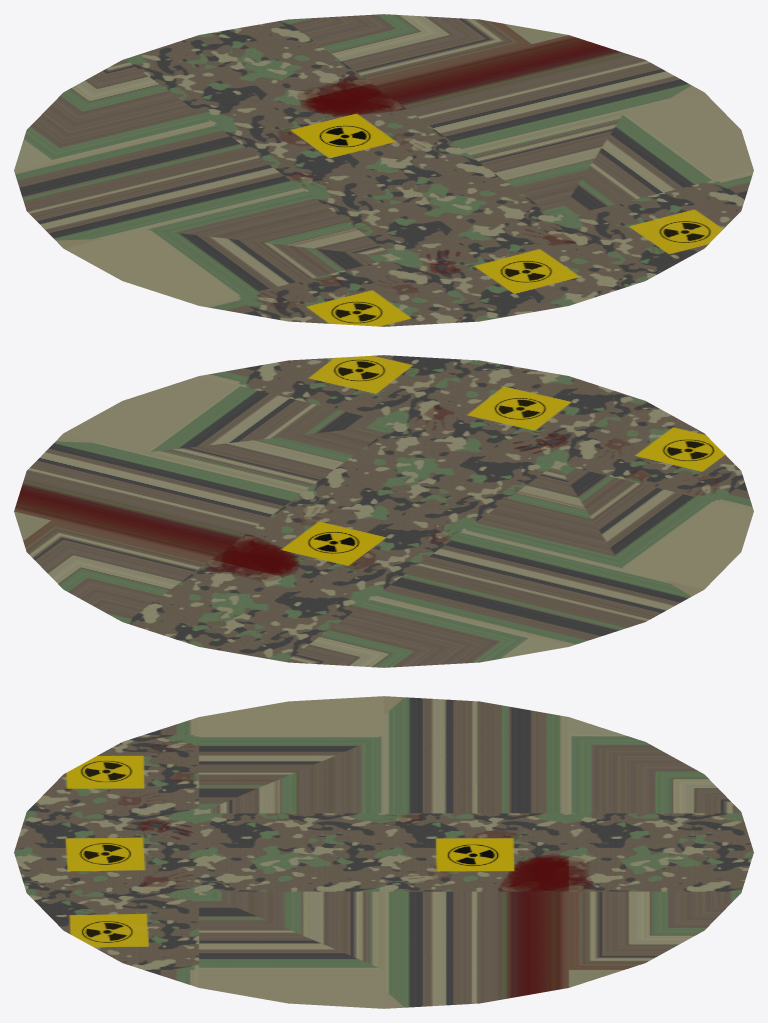
File: sand.gltf
3 renders of one model, top to bottom at view 1: azimuth 30°, elevation 25°; view 2: azimuth 150°, elevation 25°; view 3: azimuth 270°, elevation 25°, orthographic.
Visible parts, largest first — view 1: sand; view 2: sand; view 3: sand.
Boxes of the visible parts, <box> form: sand: <box>14,14,753,326</box>; sand: <box>14,355,753,667</box>; sand: <box>14,696,753,1008</box>.
Size of the model in its own units: 898 by 0 by 898.
